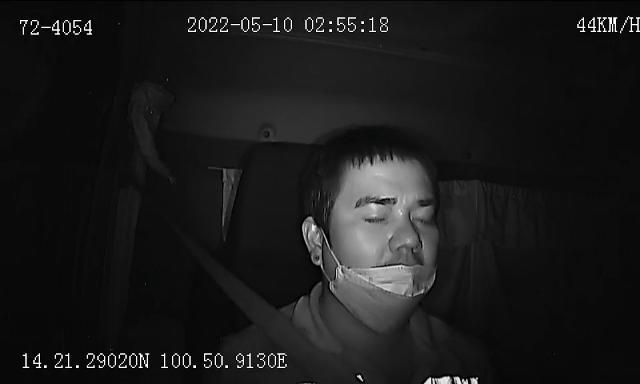Seatbelt: (206, 260, 324, 384)
